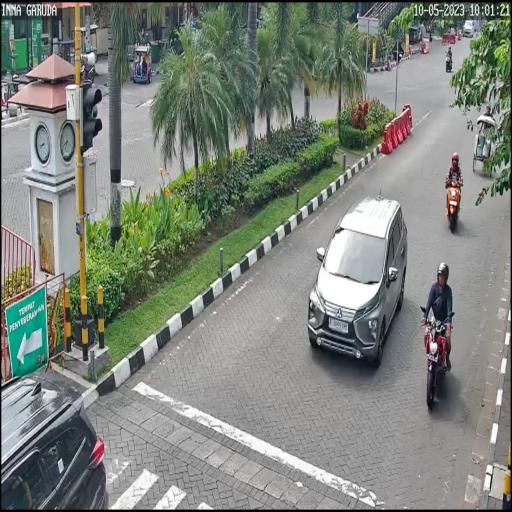mobil: (303, 190, 408, 371)
motor: (418, 306, 460, 410), (442, 174, 466, 230)
